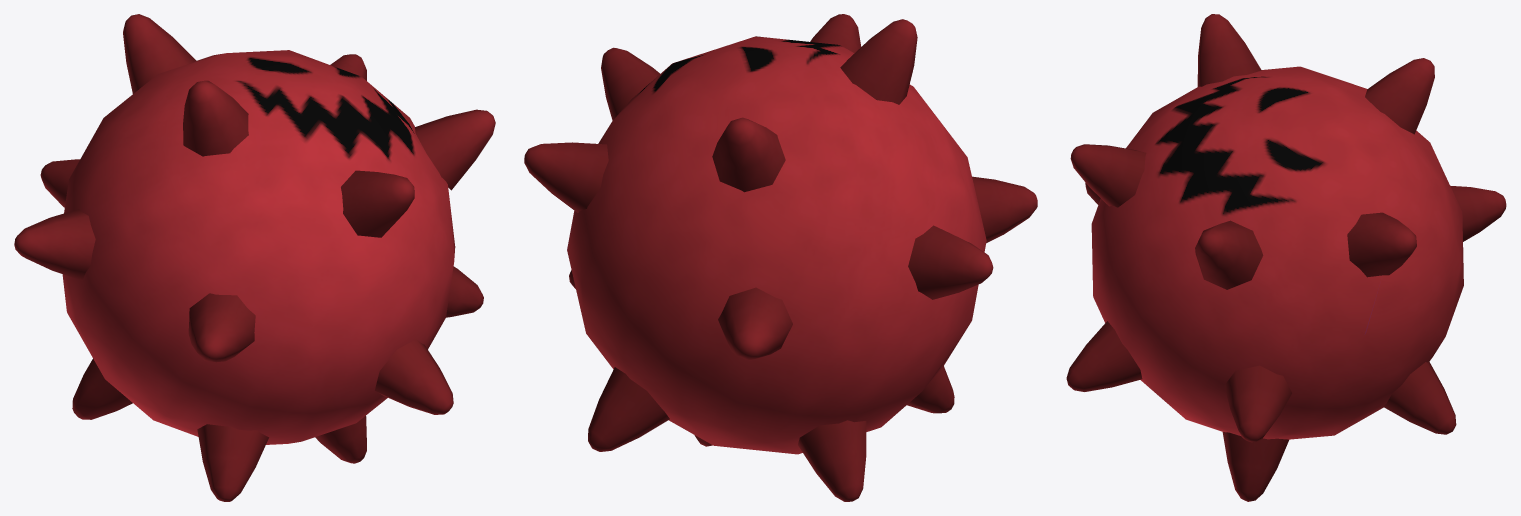
Rendered from RedGermPlayer.fbx.
The picture shows the model from 3 angles, left to right: view 1: azimuth 30°, elevation 25°; view 2: azimuth 150°, elevation 25°; view 3: azimuth 270°, elevation 25°; orthographic projection. The views are drawn at different scales.
Visible parts, largest first — view 1: RedPlayer; view 2: RedPlayer; view 3: RedPlayer.
Part boxes in pixels (x1,y1,x2,y2): RedPlayer: [14, 14, 495, 501]; RedPlayer: [524, 14, 1037, 501]; RedPlayer: [1066, 14, 1506, 501].
Bounding box in the file's own units: 8605 × 8235 × 8032.
